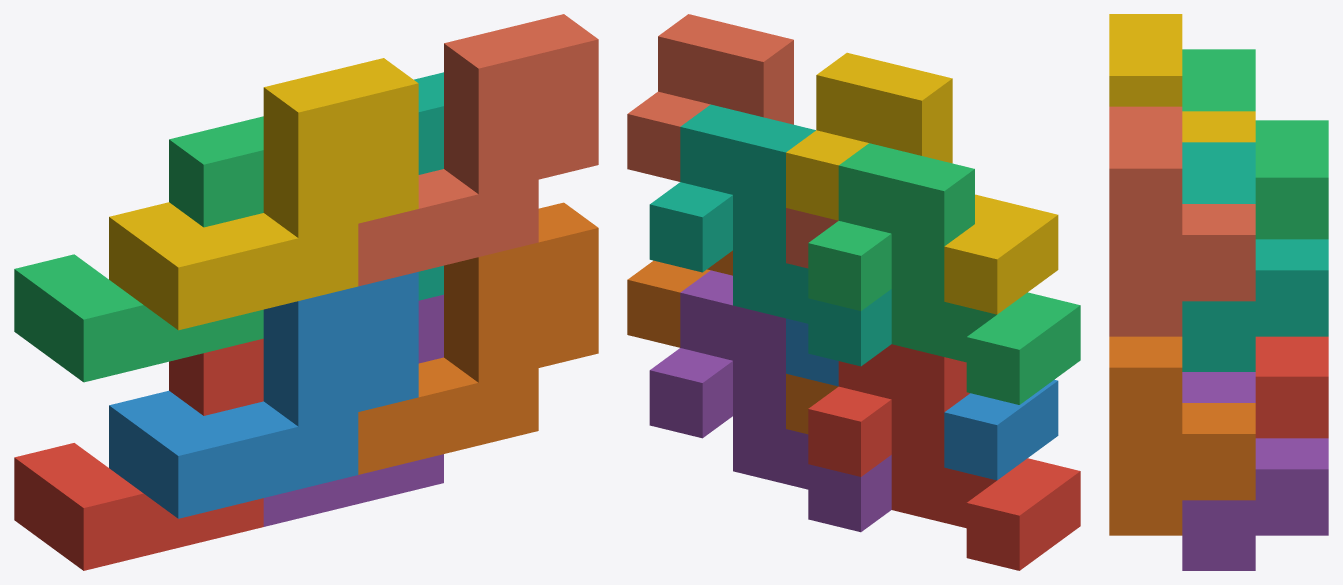
File: tiling.obj
3 renders of one model, left to right at view 1: azimuth 30°, elevation 25°; view 2: azimuth 150°, elevation 25°; view 3: azimuth 270°, elevation 25°, orthographic. The views are drawn at different scales.
Parts seen in each view (by area): view 1: copy_1_domain_4, copy_1_domain_2, copy_1_domain_8, copy_1_domain_6, copy_1_domain_3, copy_1_domain_1, copy_1_domain_5, copy_1_domain_7; view 2: copy_1_domain_3, copy_1_domain_1, copy_1_domain_7, copy_1_domain_4, copy_1_domain_5, copy_1_domain_8, copy_1_domain_2, copy_1_domain_6; view 3: copy_1_domain_8, copy_1_domain_6, copy_1_domain_7, copy_1_domain_5, copy_1_domain_3, copy_1_domain_4, copy_1_domain_1.
Part boxes in pixels (x1,y1,x2,y2): copy_1_domain_4: [109, 58, 418, 330]; copy_1_domain_2: [109, 272, 418, 518]; copy_1_domain_8: [358, 14, 598, 286]; copy_1_domain_6: [358, 202, 598, 474]; copy_1_domain_3: [14, 116, 263, 382]; copy_1_domain_1: [14, 338, 263, 570]; copy_1_domain_5: [263, 294, 443, 526]; copy_1_domain_7: [414, 72, 443, 300]; copy_1_domain_3: [808, 143, 1080, 404]; copy_1_domain_1: [808, 344, 1080, 570]; copy_1_domain_7: [649, 104, 891, 366]; copy_1_domain_4: [786, 52, 1058, 314]; copy_1_domain_5: [649, 270, 891, 532]; copy_1_domain_8: [627, 14, 838, 268]; copy_1_domain_2: [786, 318, 1058, 480]; copy_1_domain_6: [627, 250, 838, 434]; copy_1_domain_8: [1109, 106, 1255, 336]; copy_1_domain_6: [1109, 336, 1255, 535]; copy_1_domain_7: [1182, 142, 1328, 371]; copy_1_domain_5: [1182, 372, 1328, 570]; copy_1_domain_3: [1182, 49, 1328, 239]; copy_1_domain_4: [1109, 14, 1255, 142]; copy_1_domain_1: [1255, 336, 1328, 438].
Bounding box in the file's own units: 8 × 7 × 3.
